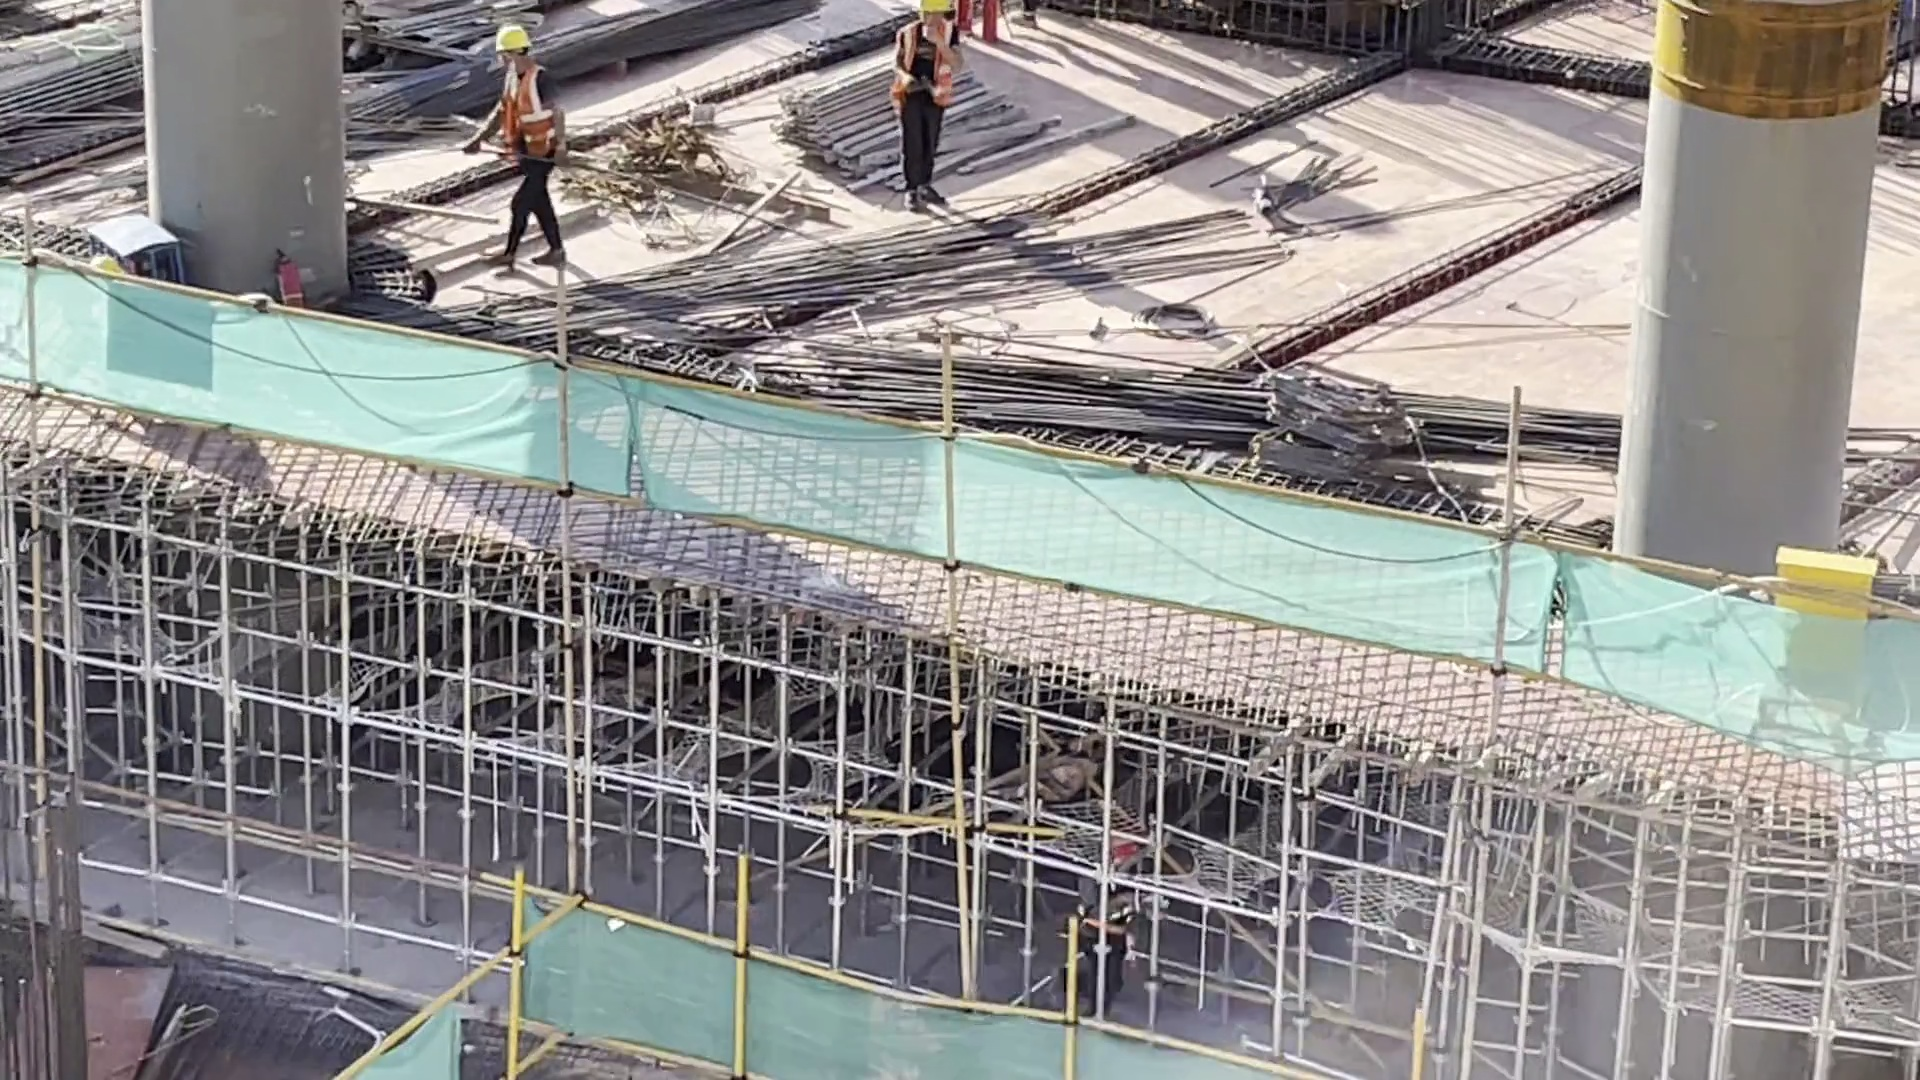helmet: (501, 17, 536, 66), (1101, 839, 1136, 867), (931, 1, 953, 26)
person: (478, 26, 579, 260), (904, 1, 963, 206), (1074, 810, 1138, 993)
vest: (480, 61, 554, 165), (891, 29, 950, 111), (1085, 874, 1135, 946)
